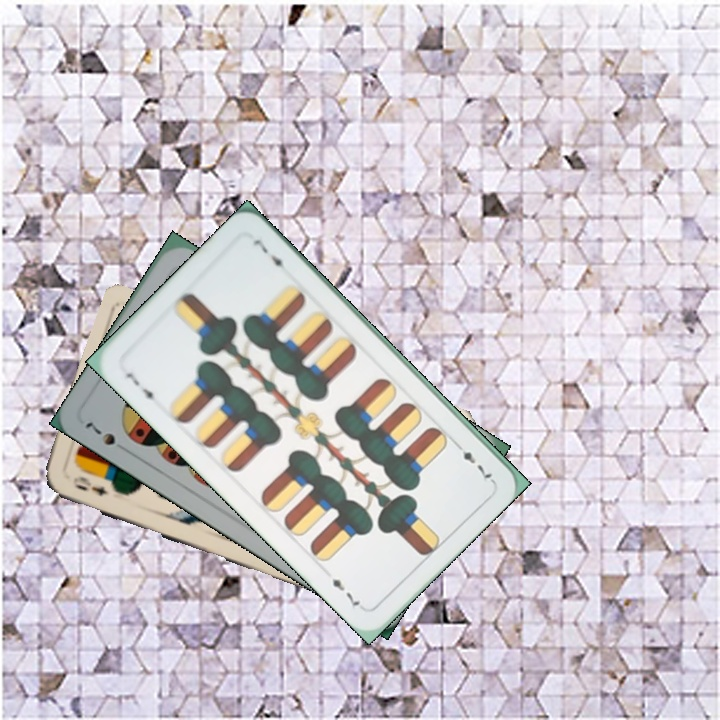E7: (450, 438, 496, 484), (121, 368, 160, 409)
EO: (68, 472, 110, 499)
S7: (81, 417, 132, 456)
